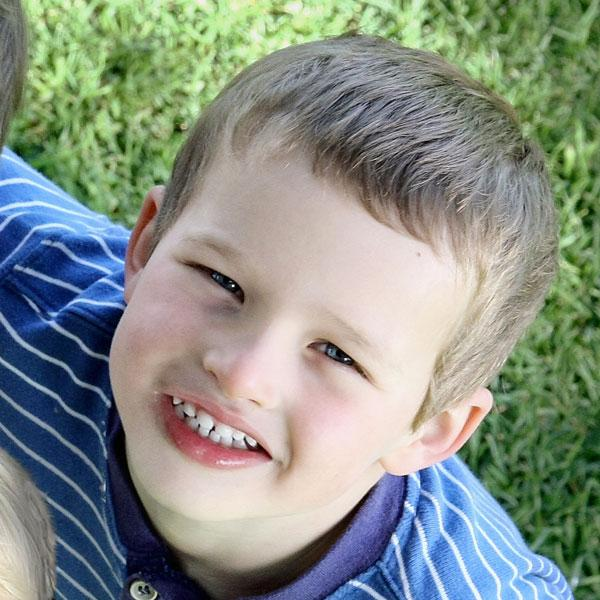Eyes: (303, 322, 381, 391), (176, 248, 254, 313)
